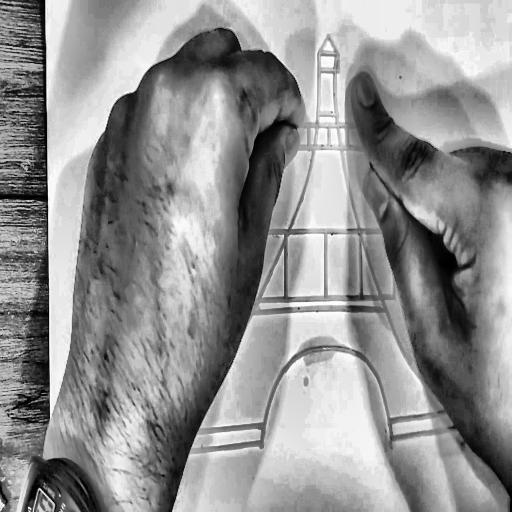eiffel-tower: (139, 17, 506, 468)
